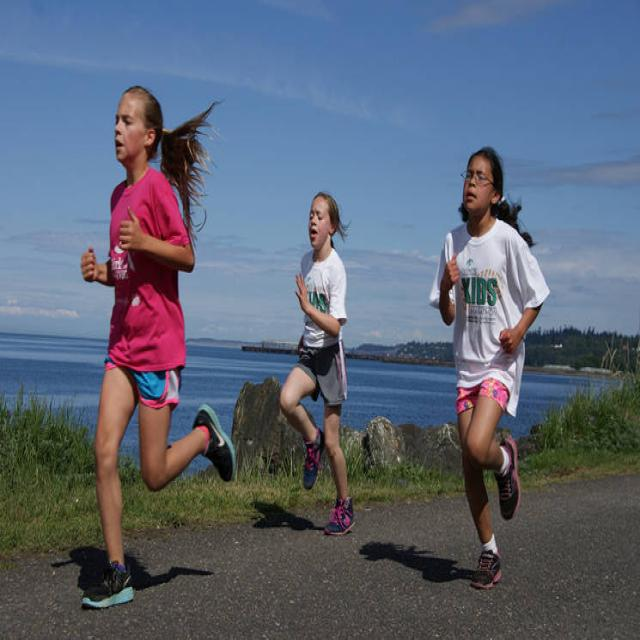Person: (80, 87, 235, 611), (428, 148, 550, 586), (280, 192, 355, 535)
